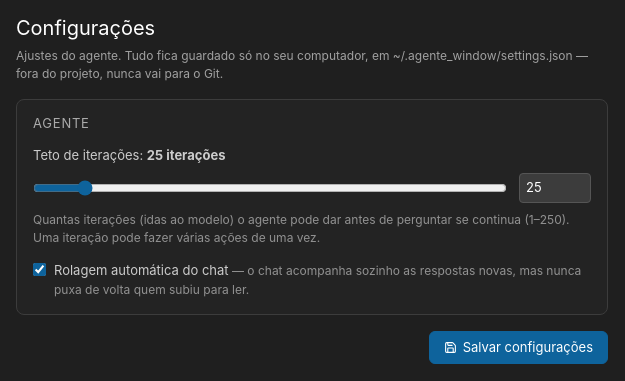
Test: ConfigView (FATIA 11) › slider + Salvar: manda PUT, mostra o eco e avisa quem está ouvindo
Expected: the heading "Configurações" is shown, [16,16,155,40]
Set the slider named "Ajustar teto de iterações" to "50". click: (131, 188)
box: [33,180,507,196]
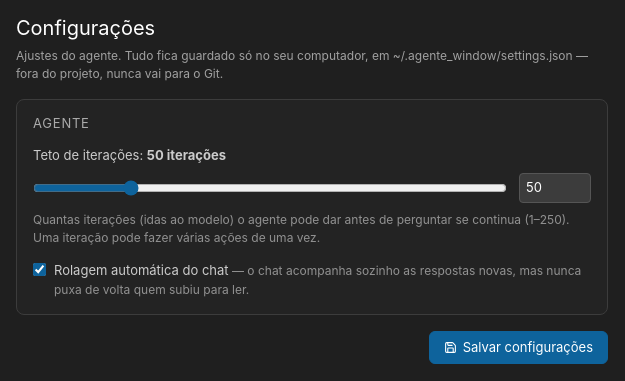
Expected: the text "50 iterações" is shown, [147,146,226,162]
Click the checkbox labelled "Rolagem automática do chat". click: (40, 269)
box: [33,262,46,276]
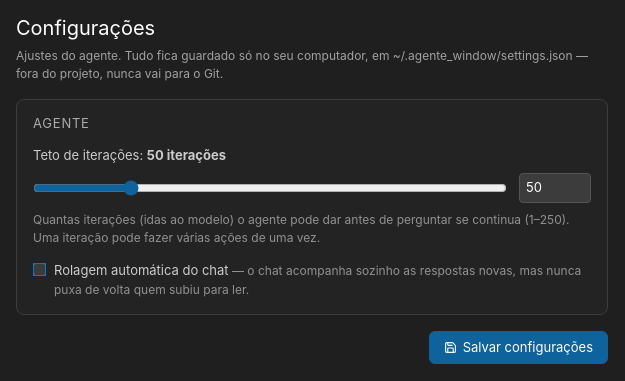
Expected: the checkbox labelled "Rolagem automática do chat" is not checked, [33,262,46,276]
Click the button "Salvar configurações". click: (518, 347)
box: [429,330,608,364]
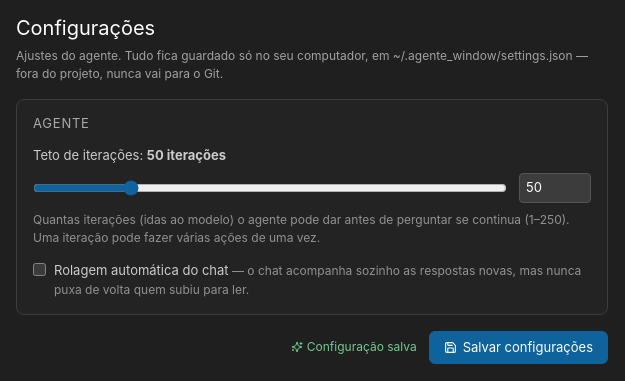
Expected: the text "Configuração salva" is shown, [291,338,417,356]
